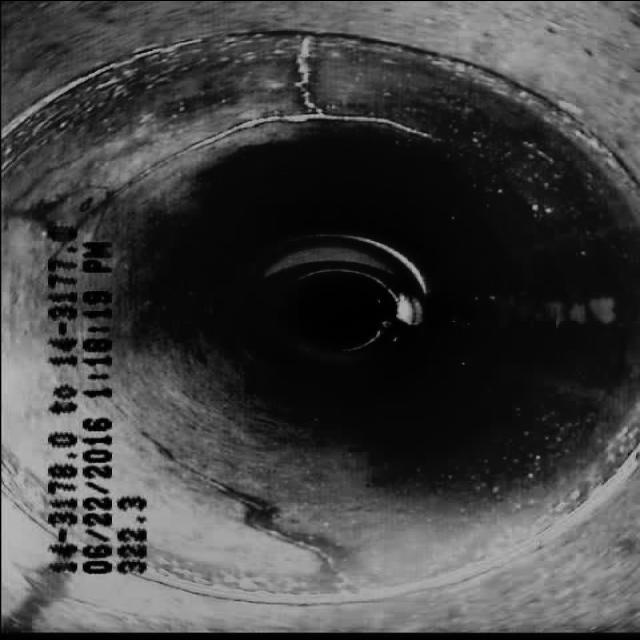Crack: (117, 44, 431, 185), (172, 436, 386, 576)
